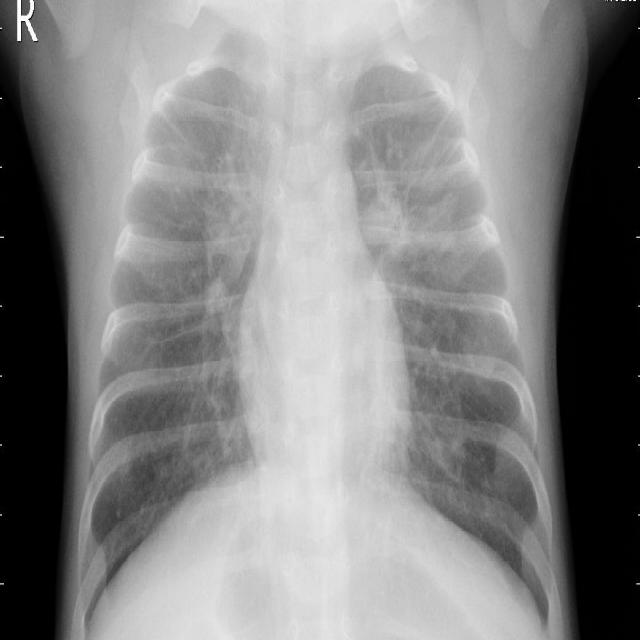viral_pneumonia: (5, 0, 627, 640)
